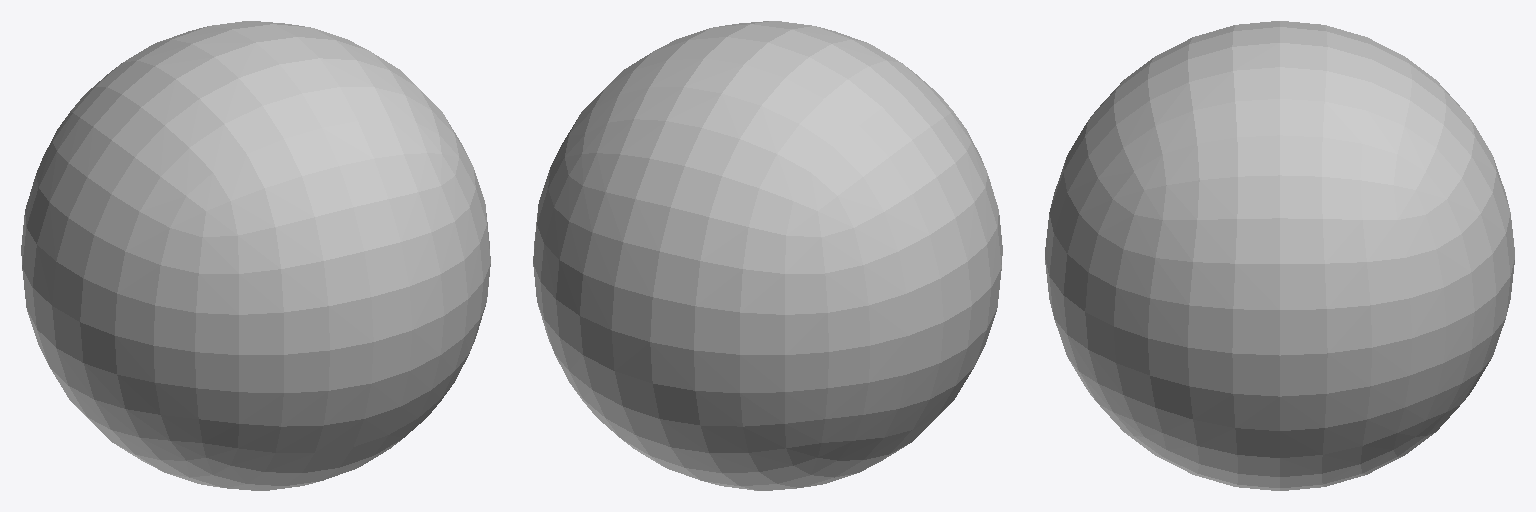
Rendered from sky2.obj.
3 views of the same model, side by side, from view 1: azimuth 30°, elevation 25°; view 2: azimuth 150°, elevation 25°; view 3: azimuth 270°, elevation 25° (orthographic).
Visible parts, largest first — view 1: Cube; view 2: Cube; view 3: Cube.
Part boxes in pixels (bbox=[...]): Cube: bbox=[21, 21, 490, 490]; Cube: bbox=[533, 21, 1002, 490]; Cube: bbox=[1045, 21, 1514, 490].
Size of the model in its own units: 1.73 by 1.73 by 1.73.